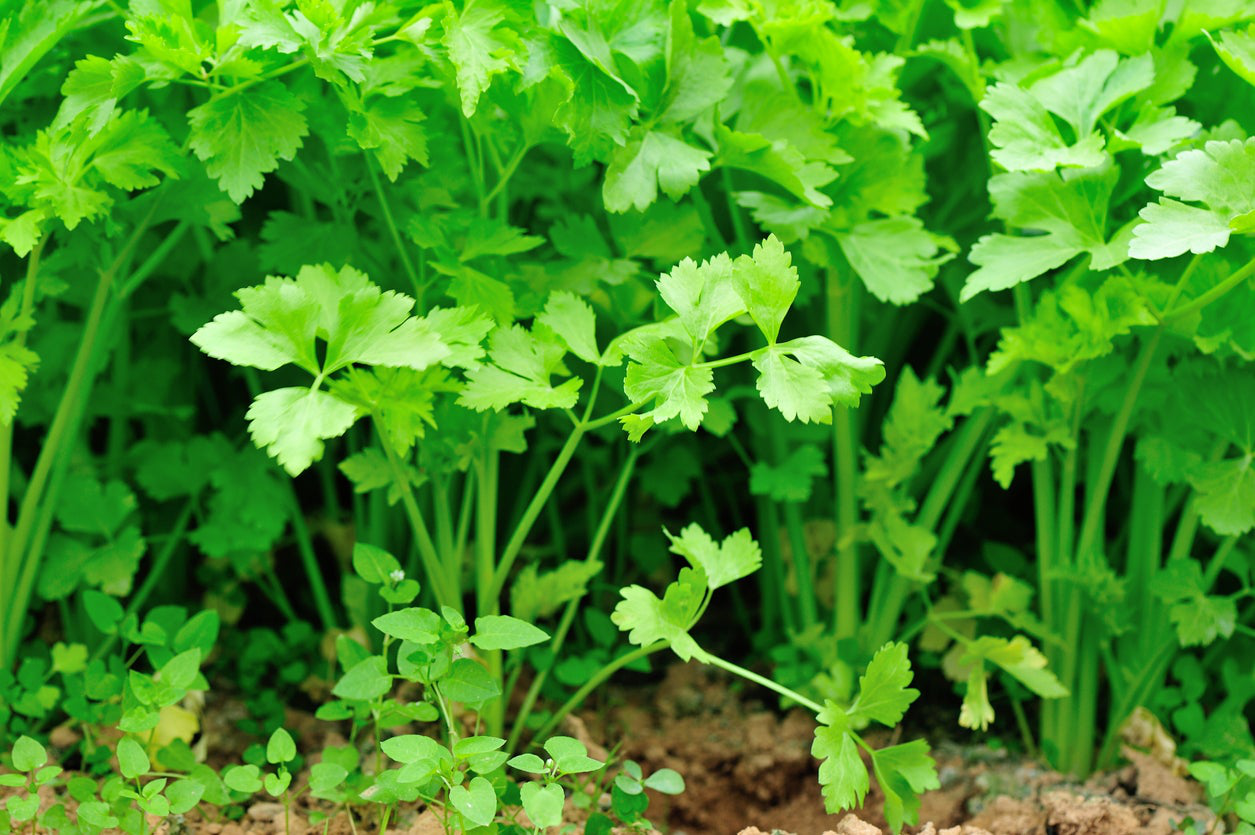Seledri: (211, 183, 918, 835)
